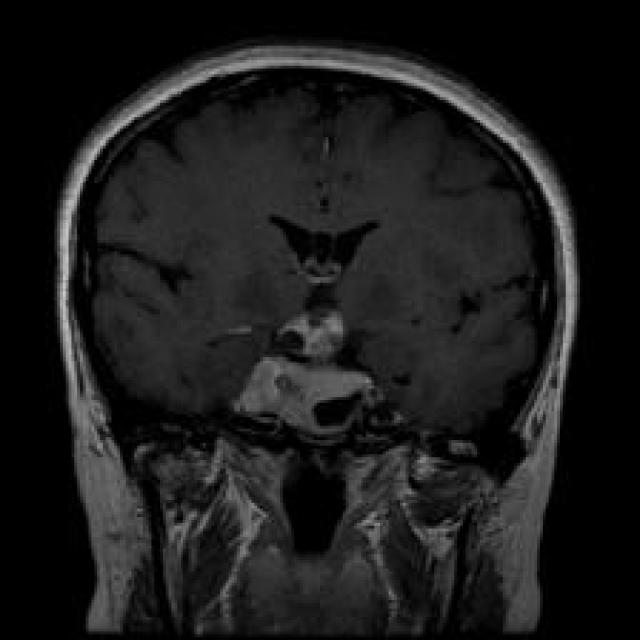pituitary_tumor: (205, 284, 396, 440)
